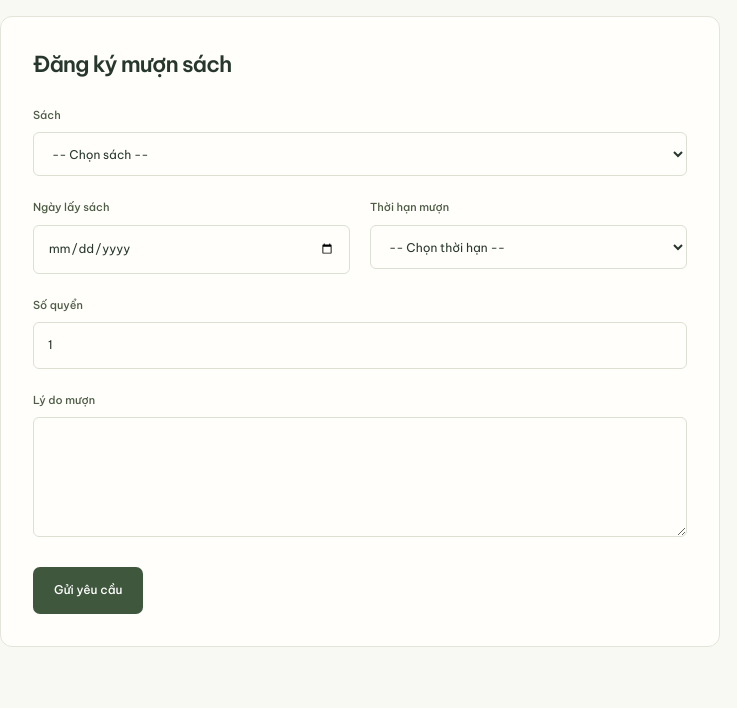
Test case: điền hợp lệ gọi action một lần với đúng FormData và xóa form khi thành công
This screenshot has width=737, height=708.
Select "Nhập môn cơ sở dữ liệu (3 bản)" in the dropdown labelled "Sách": (360, 154) [33,132,687,176]
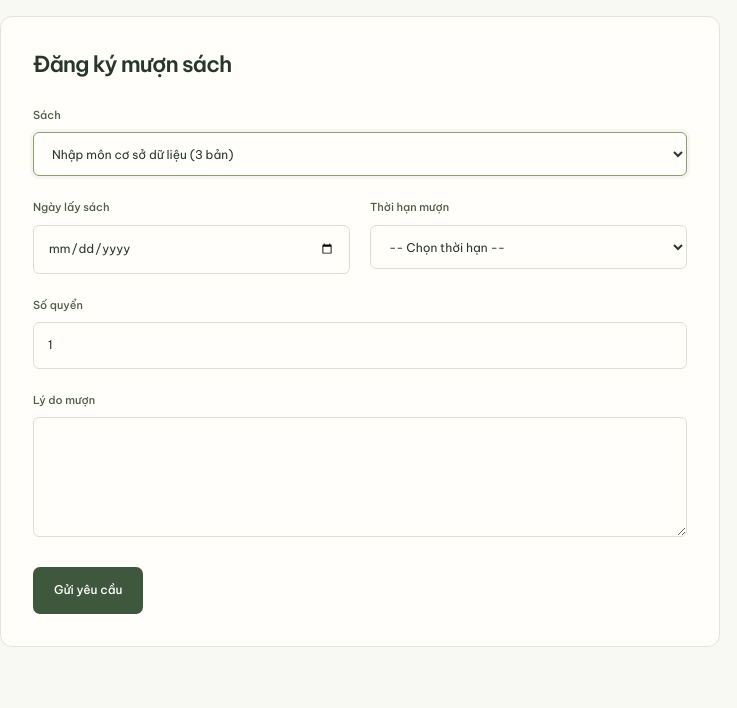
In the date field labelled "Ngày lấy sách": (192, 249) [33,225,350,274], type "2026-12-03"
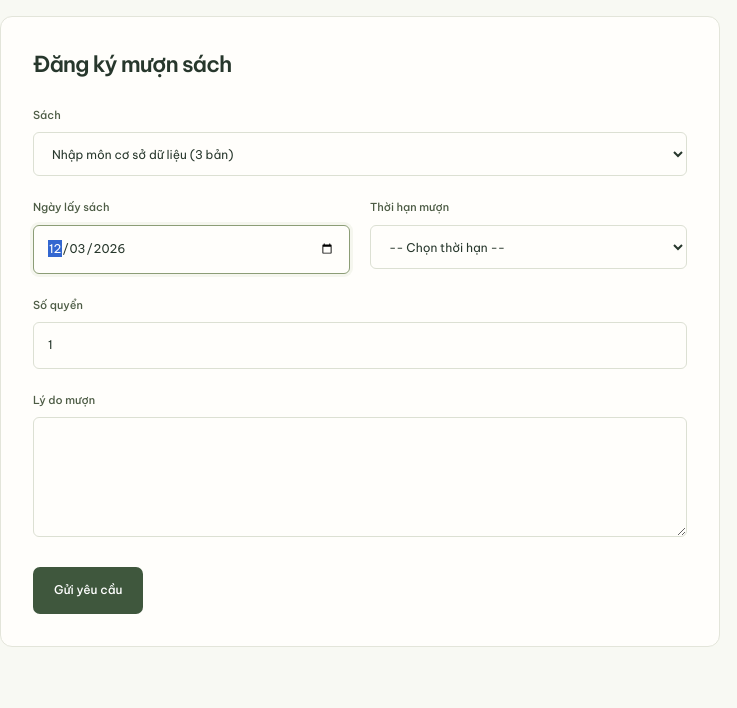
Select "14 ngày" in the dropdown labelled "Thời hạn mượn": (528, 247) [370,225,687,269]
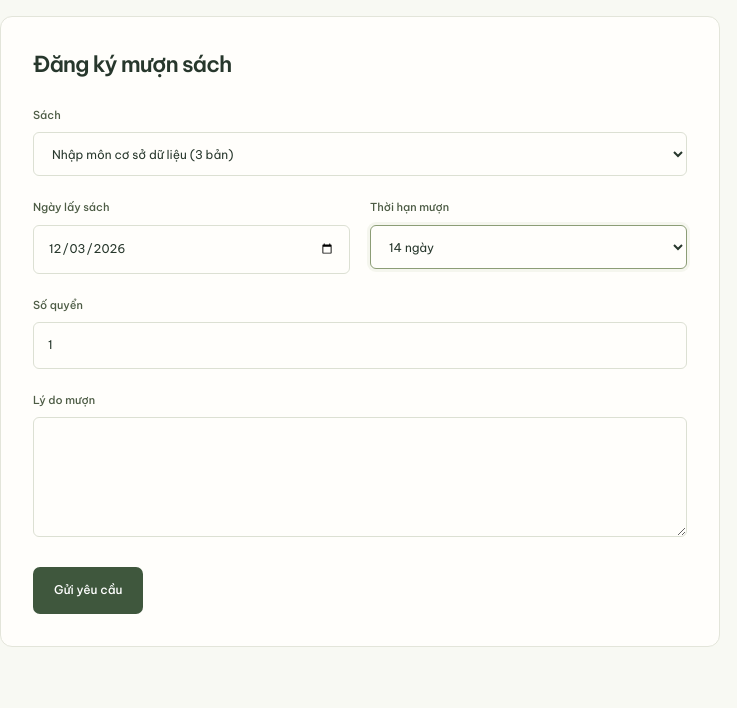
Replace the text in the number field labelled "Số quyển" with "2": (360, 346) [33,322,687,369]
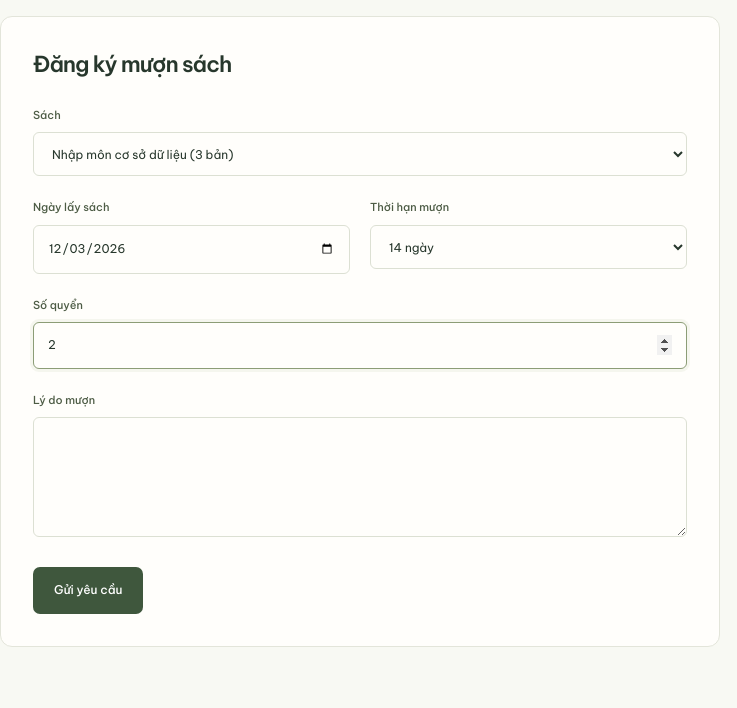
In the text box labelled "Lý do mượn": (360, 477) [33,417,687,537], type "Mượn phục vụ môn học"
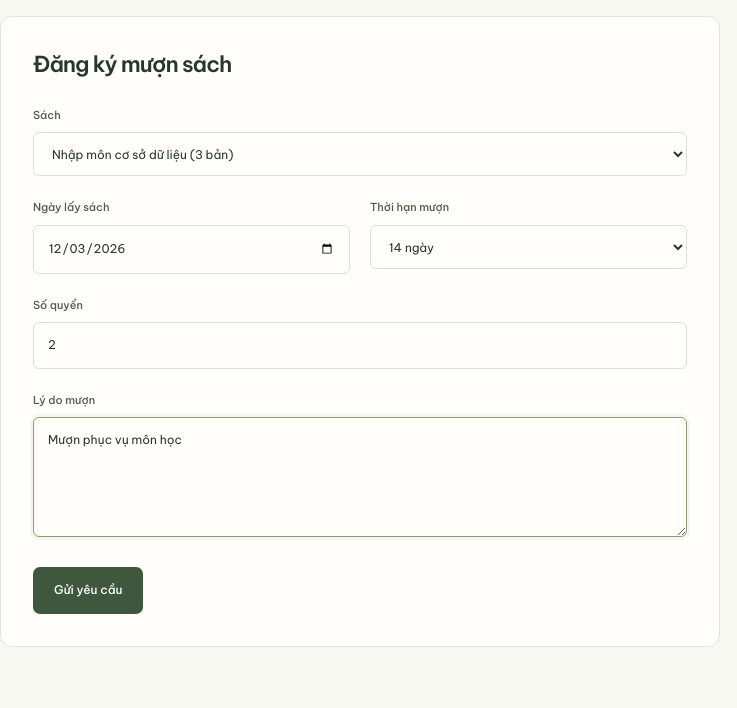
Click the button "Gửi yêu cầu": (88, 590) [33,567,143,614]
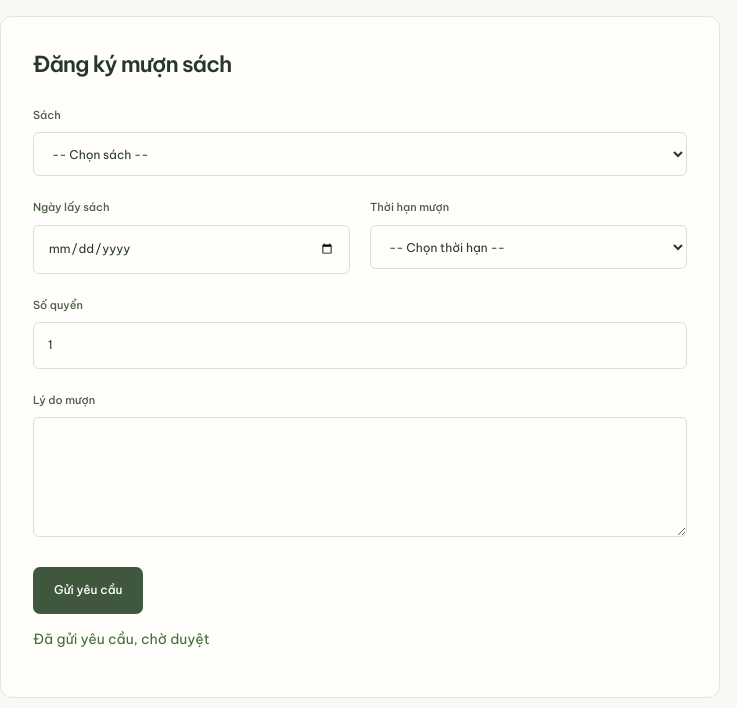
Result: the message reads "Đã gửi yêu cầu, chờ duyệt" at [33,630,210,648]
Result: the text box labelled "Lý do mượn" is empty at [33,417,687,537]
Result: the dropdown labelled "Sách" shows "-- Chọn sách --" at [33,132,687,176]
